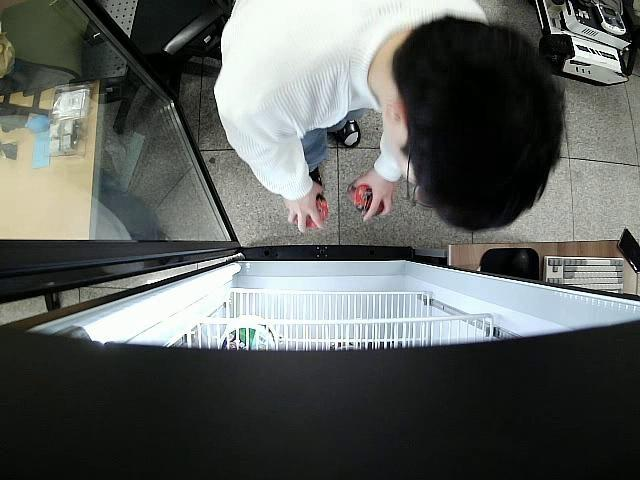02_shinRamen_S: (292, 195, 328, 229), (346, 182, 384, 214)
